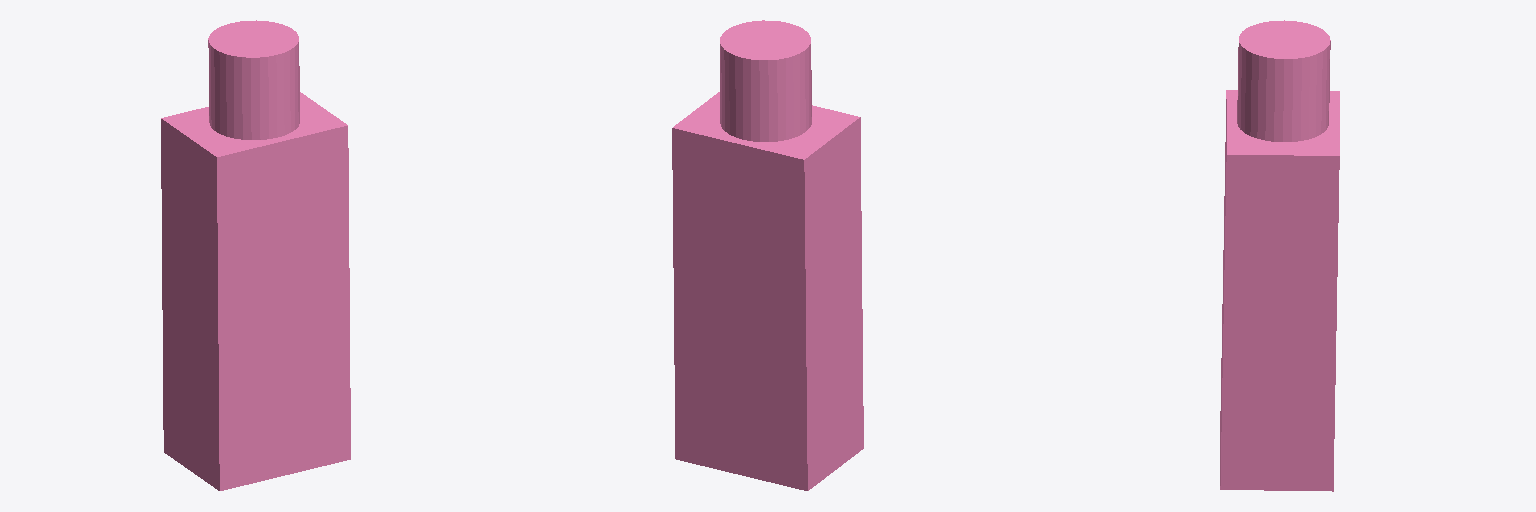
URDF robot description (taskObject1):
<?xml version="1.0"?>
<!-- created with Phobos 1.0.1 "Capricious Choutengan" -->
  <robot name="taskObject1">

    <link name="obj_root">
      <inertial>
        <origin xyz="0 0 0" rpy="0 0 0"/>
        <mass value="0.001"/>
        <inertia ixx="0.001" ixy="0" ixz="0" iyy="0.001" iyz="0" izz="0.001"/>
      </inertial>
      <visual name="object">
        <origin xyz="0 0 0" rpy="-0.00614 0.01569 1.13553"/>
        <geometry>
          <mesh filename="..\meshes\dae\object.dae" scale="0.99999 0.99999 1.0"/>
        </geometry>
        <material name="$Material_0"/>
      </visual>
    </link>

    <material name="$Material_0">
      <color rgba="1.0 0.6 0.8 1.0"/>
    </material>

  </robot>

--- Render facts (derived) ---
The picture shows the robot from 3 angles, left to right: view 1: azimuth 30°, elevation 25°; view 2: azimuth 150°, elevation 25°; view 3: azimuth 270°, elevation 25°; orthographic projection.
Model taskObject1 with 1 links and 0 joints (none), rooted at obj_root, posed all joints at 0.
Links seen in each view (by area): view 1: obj_root; view 2: obj_root; view 3: obj_root.
Link boxes in pixels (x1=…): obj_root: x1=161, y1=20, x2=350, y2=490; obj_root: x1=672, y1=20, x2=863, y2=490; obj_root: x1=1220, y1=20, x2=1339, y2=491.
Size in the robot's own frame: 0.0351 by 0.0272 by 0.1056 metres.
Meshes: 1 distinct files referenced, 1 mesh visuals loaded (1 Collada DAE).